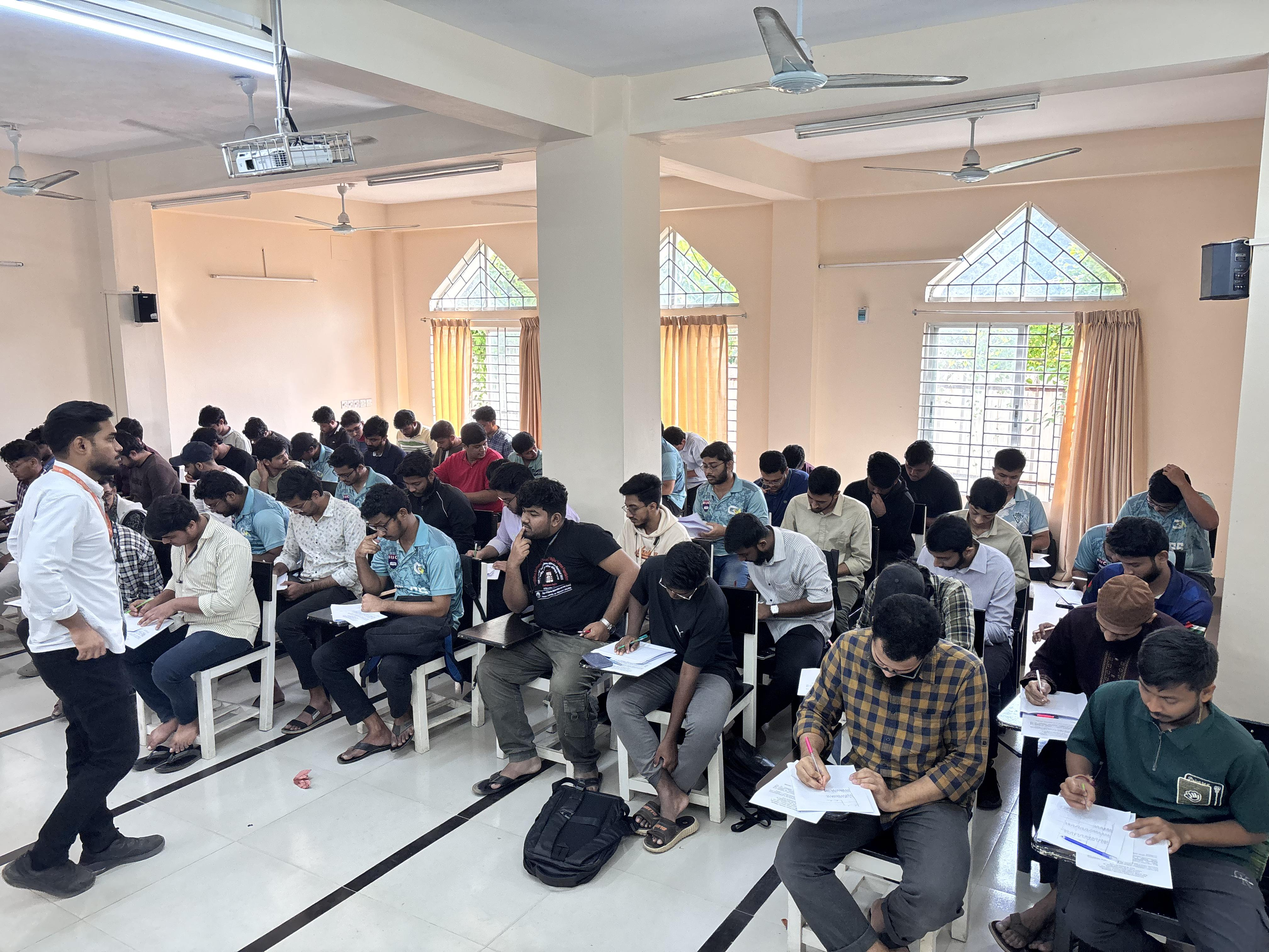copying: (446, 424, 496, 482), (169, 437, 222, 479), (506, 426, 545, 480), (251, 437, 294, 480), (336, 408, 365, 446)
invigilator: (2, 381, 164, 897)
no_cheating: (797, 593, 975, 904), (1061, 628, 1235, 903), (135, 491, 249, 750), (495, 482, 604, 733), (616, 531, 721, 763), (339, 483, 444, 692), (717, 506, 836, 646), (1046, 574, 1165, 697), (268, 464, 351, 628), (1102, 518, 1199, 613), (919, 504, 988, 613), (187, 466, 266, 554), (794, 463, 862, 562), (682, 439, 759, 523), (849, 446, 911, 533), (1139, 469, 1207, 546), (613, 472, 675, 549), (399, 453, 460, 515), (480, 458, 532, 530), (901, 432, 946, 512), (748, 445, 802, 504), (981, 439, 1028, 503), (1, 436, 50, 497), (326, 441, 376, 499), (962, 479, 1002, 541), (424, 418, 463, 466), (287, 429, 328, 474), (361, 414, 394, 466), (391, 405, 422, 450), (308, 403, 342, 444)
